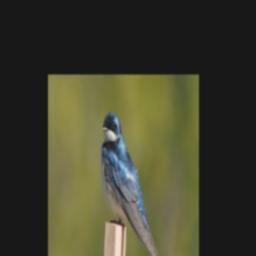Swallow: (100, 107, 162, 256)
